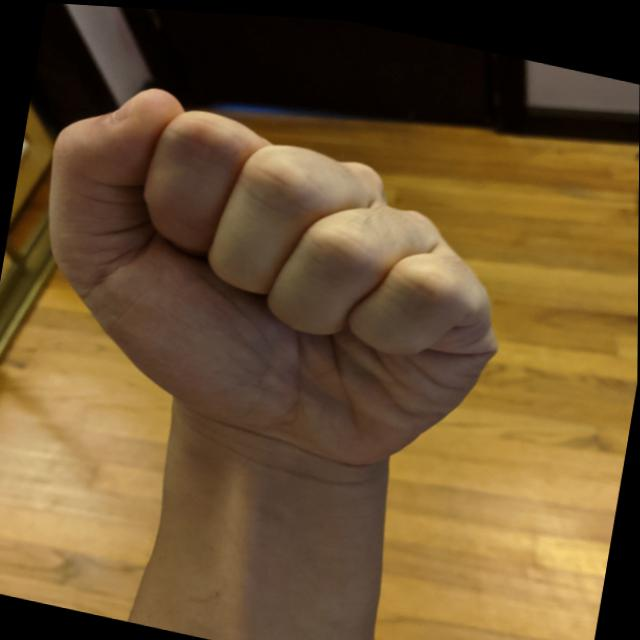A: (0, 50, 540, 511)
